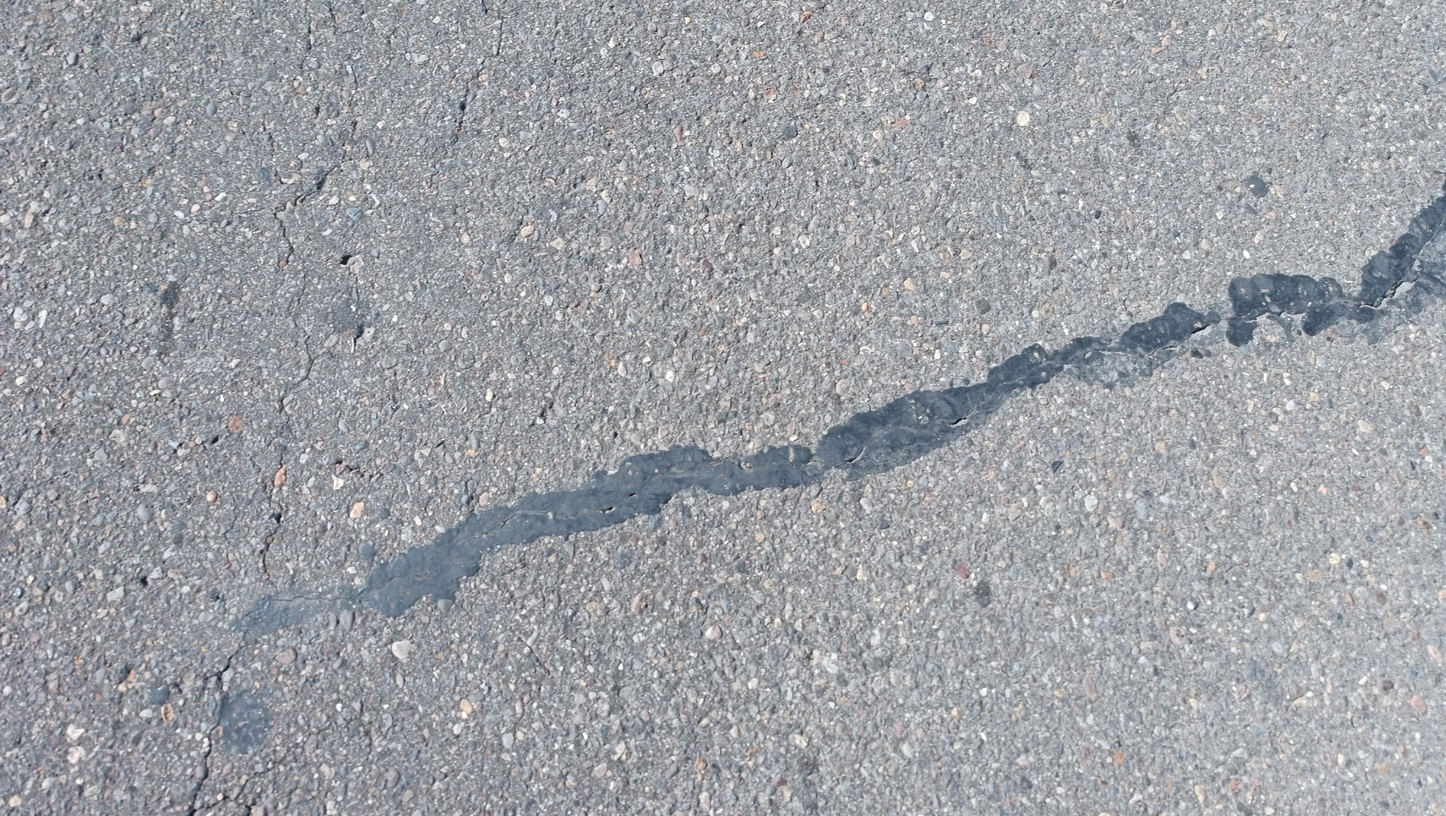GRIETA: (188, 648, 243, 816), (461, 510, 544, 543)
